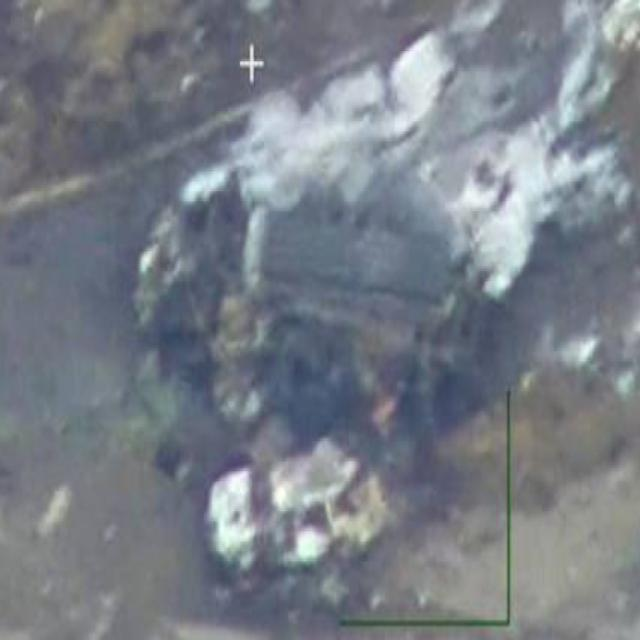CAR: (198, 438, 382, 586)
MLRS: (148, 191, 454, 405)
